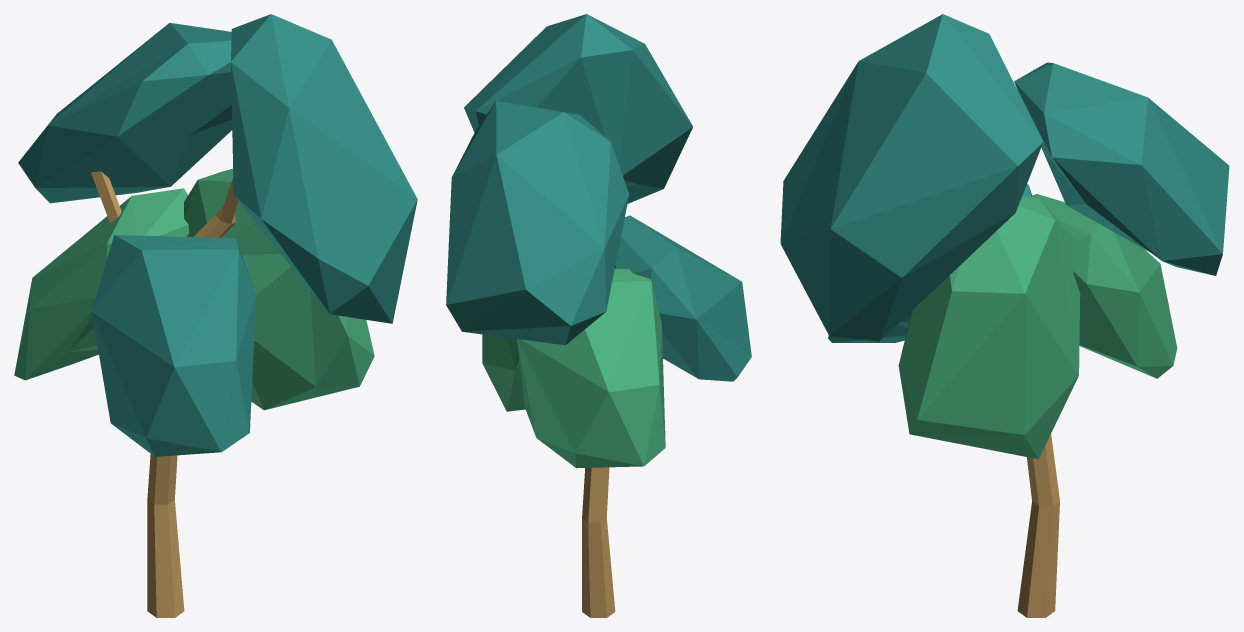
File: Tree_Type3_2.fbx
The picture shows the model from 3 angles, left to right: view 1: azimuth 30°, elevation 25°; view 2: azimuth 150°, elevation 25°; view 3: azimuth 270°, elevation 25°; orthographic projection. The views are drawn at different scales.
Visible parts, largest first — view 1: Tree_Type3_2; view 2: Tree_Type3_2; view 3: Tree_Type3_2.
Part boxes in pixels (x1=…): Tree_Type3_2: x1=14, y1=14, x2=417, y2=617; Tree_Type3_2: x1=446, y1=14, x2=751, y2=617; Tree_Type3_2: x1=780, y1=14, x2=1229, y2=617.
Size of the model in its own units: 168 by 356 by 231.
